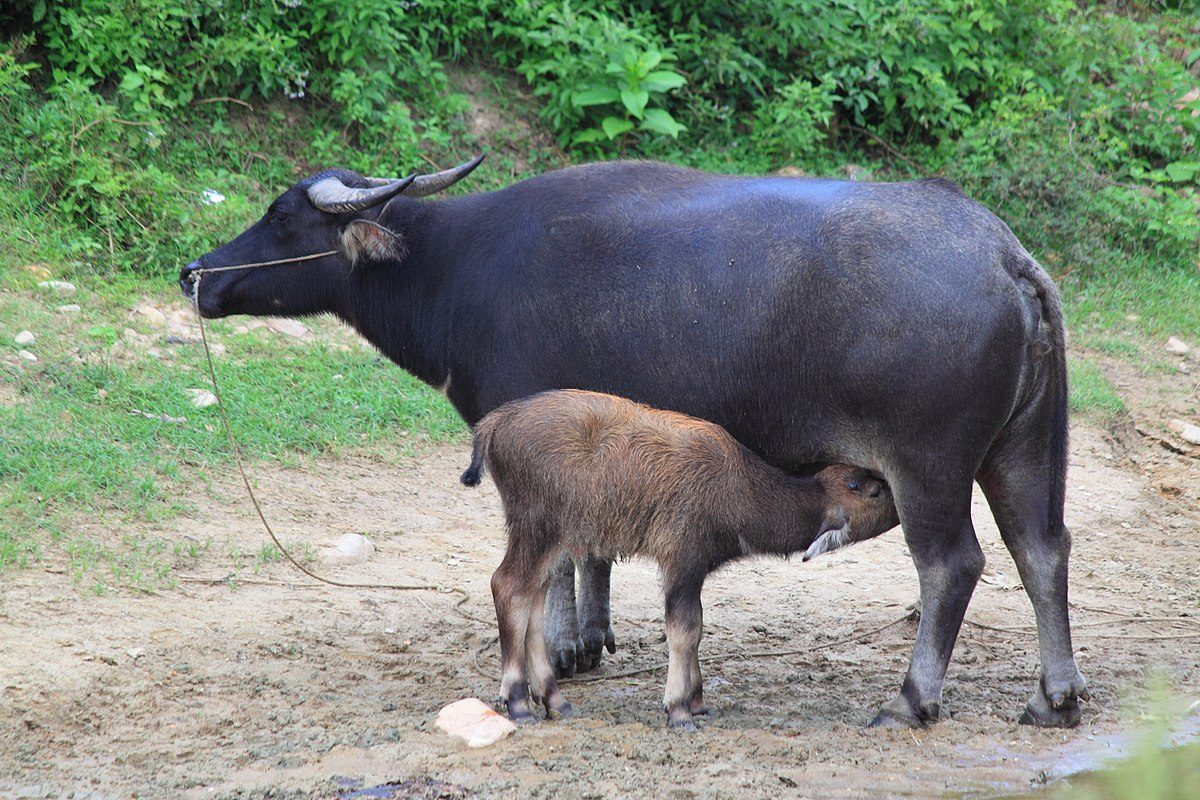buffalo: (175, 132, 1092, 739), (449, 396, 898, 703)
